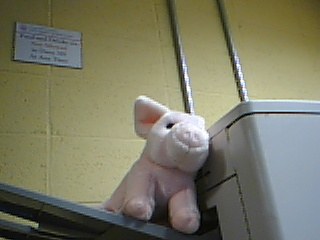piggy: (98, 94, 213, 235)
